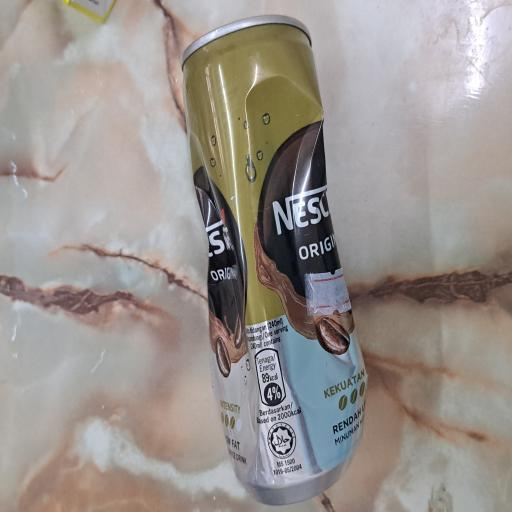can: (6, 241, 373, 490)
